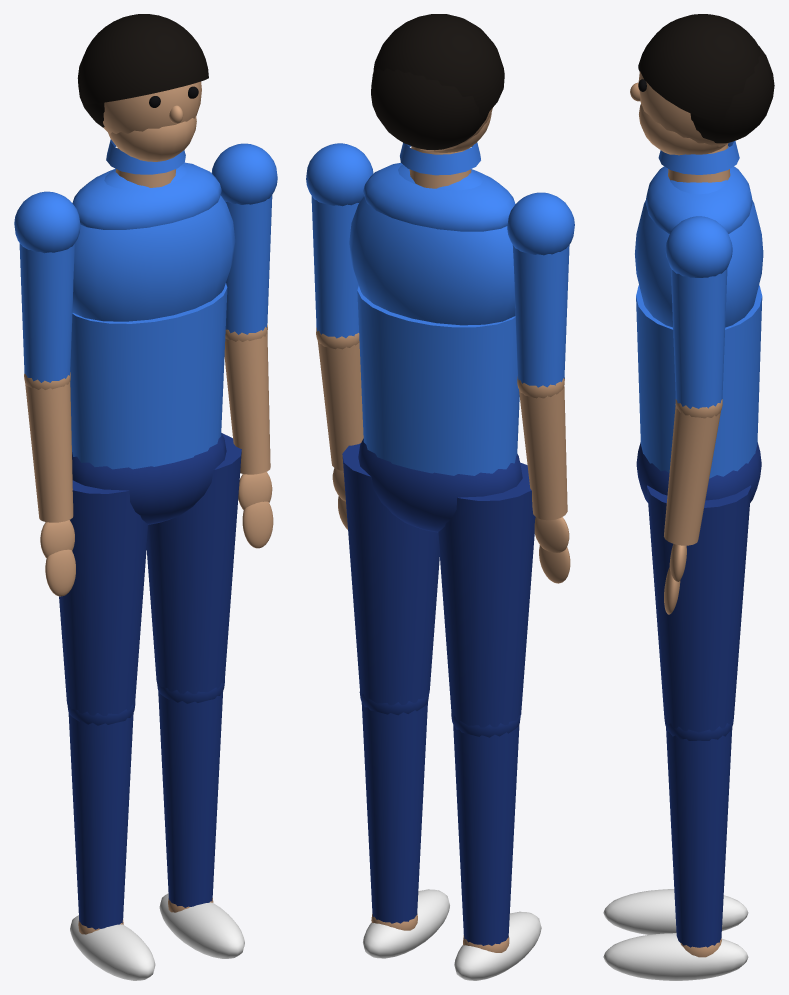
The model's file is student.glb.
The picture shows the model from 3 angles, left to right: view 1: azimuth 30°, elevation 25°; view 2: azimuth 150°, elevation 25°; view 3: azimuth 270°, elevation 25°; orthographic projection. The views are drawn at different scales.
Parts seen in each view (by area): view 1: leg (×2), object 7, arm (×2), object 4, student, object 2, object 1; view 2: leg (×2), object 7, arm (×2), object 4, student, object 1; view 3: leg (×2), object 7, arm, object 4, object 2, student, object 1.
Part boxes in pixels (bbox=[...]): leg (×2): bbox=[59, 433, 244, 980]; object 7: bbox=[70, 139, 235, 469]; arm (×2): bbox=[14, 143, 277, 596]; object 4: bbox=[77, 14, 208, 127]; student: bbox=[72, 433, 226, 524]; object 2: bbox=[103, 81, 201, 161]; object 1: bbox=[115, 148, 176, 187]; leg (×2): bbox=[342, 443, 541, 980]; object 7: bbox=[349, 142, 519, 475]; arm (×2): bbox=[306, 143, 574, 583]; object 4: bbox=[371, 14, 504, 150]; student: bbox=[358, 438, 522, 532]; object 1: bbox=[409, 146, 471, 188]; leg (×2): bbox=[603, 485, 751, 980]; object 7: bbox=[635, 141, 763, 478]; arm: bbox=[664, 216, 732, 614]; object 4: bbox=[639, 14, 774, 143]; object 2: bbox=[630, 71, 729, 155]; student: bbox=[636, 442, 761, 502]; object 1: bbox=[668, 144, 730, 182].
Bounding box in the file's own units: 0.6144 × 2.14 × 0.354.
